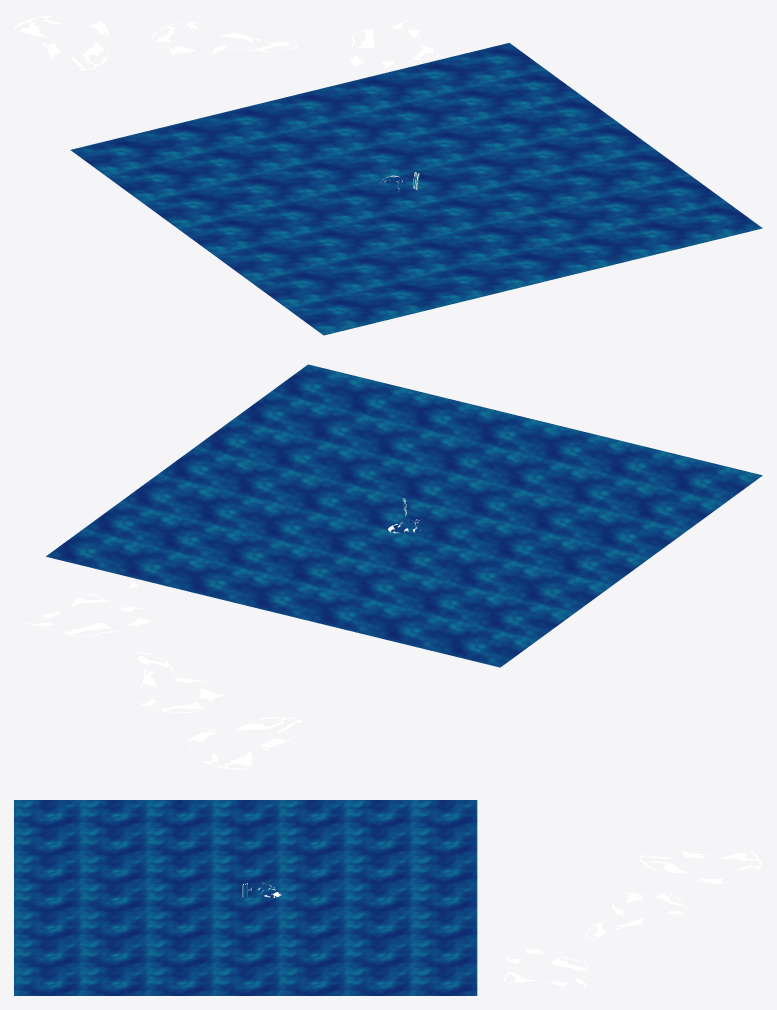
The model's file is level_2_water_and_foam_2.gltf.
3 renders of one model, top to bottom at view 1: azimuth 30°, elevation 25°; view 2: azimuth 150°, elevation 25°; view 3: azimuth 270°, elevation 25°, orthographic. The views are drawn at different scales.
Visible parts, largest first — view 1: water_level_2_base, foam_island_shape_1, foam_island_shape_2, foam_island_shape_3; view 2: water_level_2_base, foam_island_shape_1, foam_island_shape_2, foam_island_shape_3; view 3: water_level_2_base, foam_island_shape_1, foam_island_shape_2, foam_island_shape_3.
Part boxes in pixels (x1,y1,x2,y2): water_level_2_base: (70,43,762,335); foam_island_shape_1: (14,16,114,70); foam_island_shape_2: (151,22,297,58); foam_island_shape_3: (344,19,438,69); water_level_2_base: (46,364,762,667); foam_island_shape_1: (189,716,303,769); foam_island_shape_2: (133,652,225,712); foam_island_shape_3: (21,593,153,637); water_level_2_base: (14,800,477,995); foam_island_shape_1: (639,851,761,884); foam_island_shape_2: (586,891,686,939); foam_island_shape_3: (503,948,588,991).
Bounding box in the file's own units: 374 × 64.38 × 605.
Materials: 10 (7 with a texture image).
